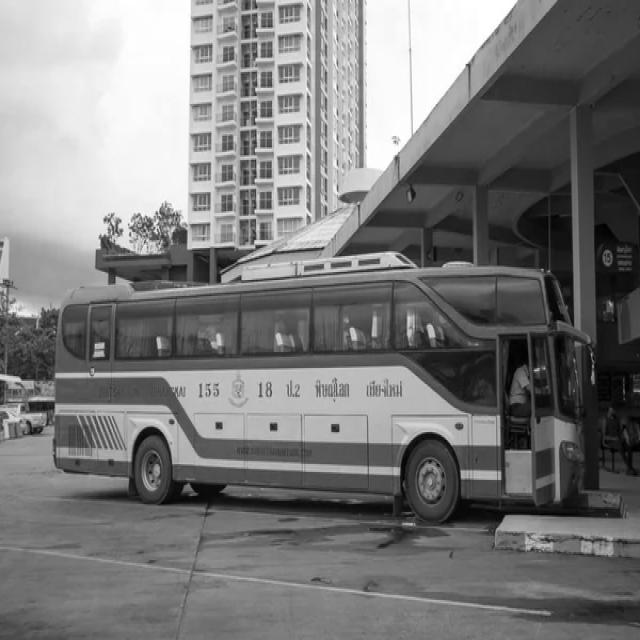Bus: (54, 255, 596, 522)
